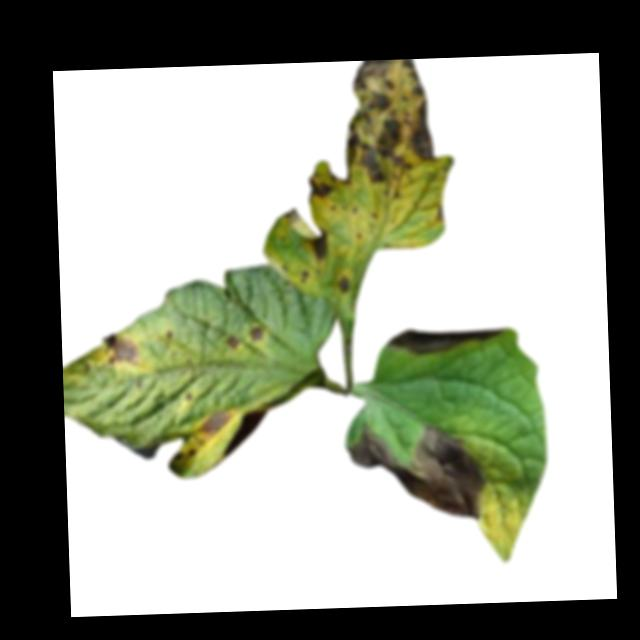Early_blight: (344, 419, 488, 525), (341, 58, 435, 188), (389, 319, 504, 357), (194, 408, 234, 442), (105, 333, 141, 369), (305, 172, 332, 201), (310, 225, 330, 264), (336, 276, 349, 297), (247, 327, 263, 344), (299, 267, 311, 284), (226, 339, 238, 353), (435, 203, 443, 223)
